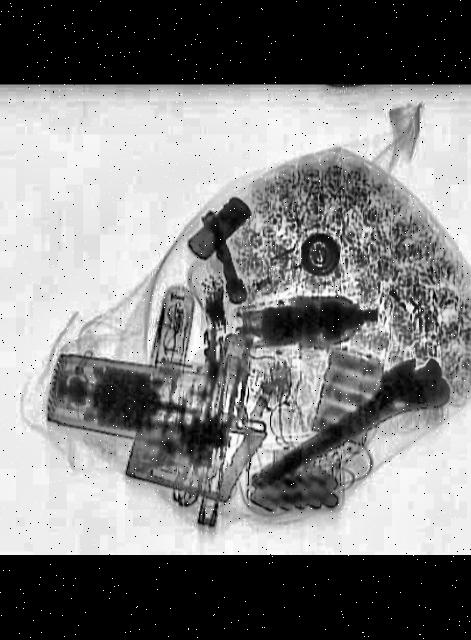Wrench: (229, 347, 461, 506)
